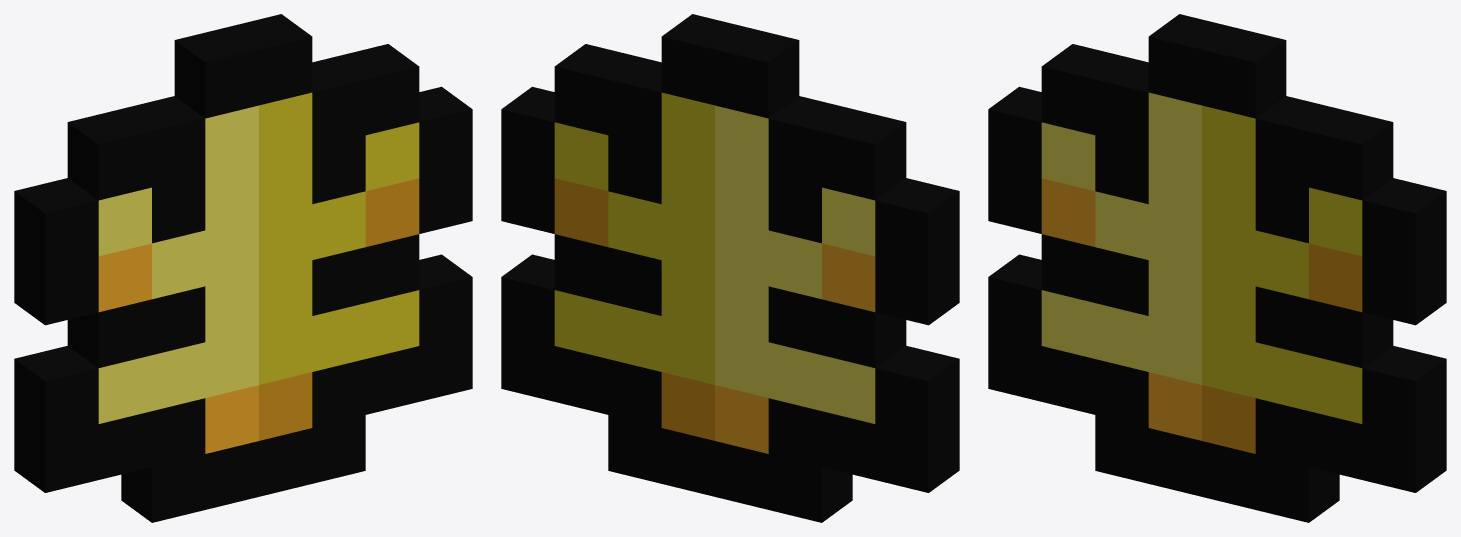
File: Gold Antlers.glb
3 views of the same model, side by side, from view 1: azimuth 30°, elevation 25°; view 2: azimuth 150°, elevation 25°; view 3: azimuth 330°, elevation 25° (orthographic).
Visible parts, largest first — view 1: generated(Clone); view 2: generated(Clone); view 3: generated(Clone).
Part boxes in pixels (x1,y1,x2,y2): generated(Clone): (14, 14, 472, 522); generated(Clone): (501, 14, 959, 522); generated(Clone): (988, 14, 1446, 522).
Bounding box in the file's own units: 8 × 8 × 1.
1 material, 1 textured.
